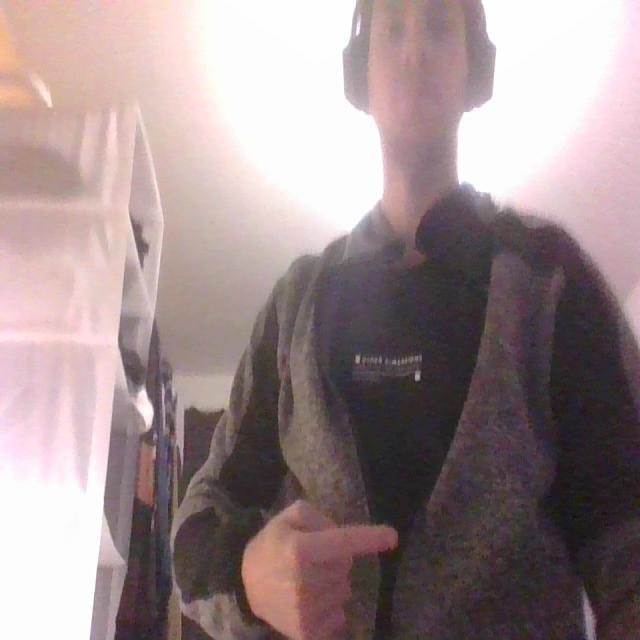right: (229, 488, 405, 639)
